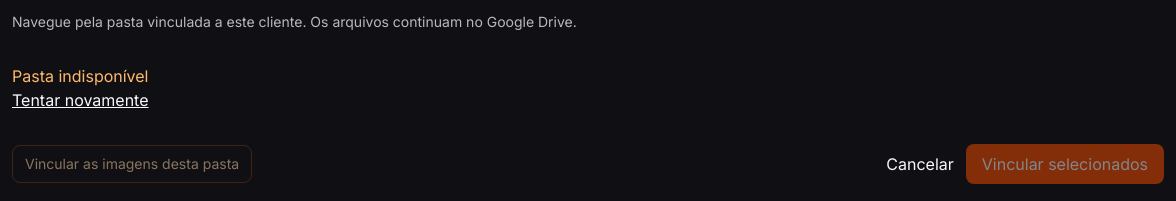
it: seleção Drive por cliente › apresenta falha e permite nova consulta
This screenshot has width=1176, height=201.
Expected: the message shows "Pasta indisponível", 12,66 -> 148,86
Click the button "Tentar novamente" at (80, 100), box 12,88 -> 148,112
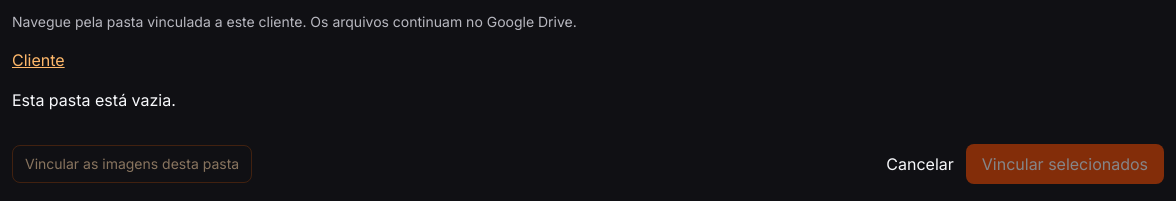
Now the text "Esta pasta está vazia." is shown, box 12,90 -> 176,110
